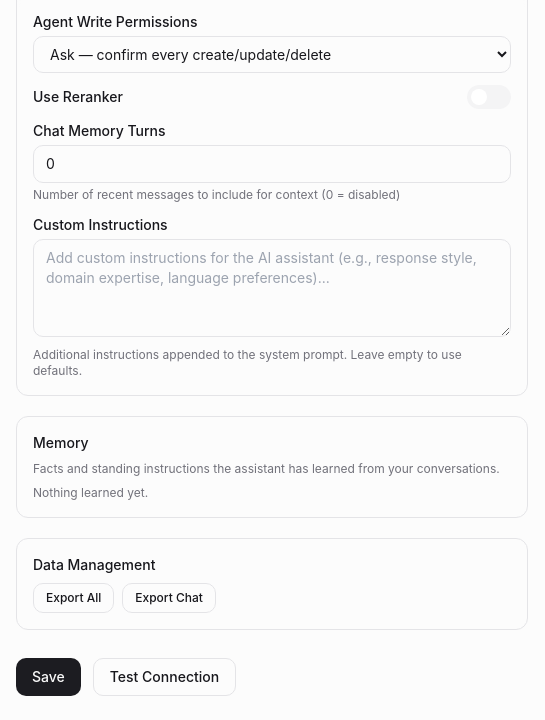
Test: SettingsPage — Export UI › shows export chat success message after Export Chat
(page scrolled)
Click the button with test id "export-chat-button": click(169, 598) left=122, top=583, right=216, bottom=613
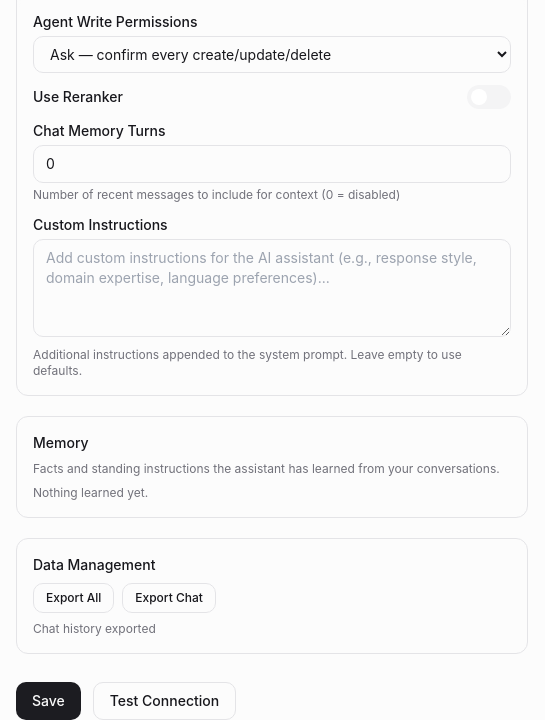
Now the text "Chat history exported" is shown, box left=33, top=621, right=156, bottom=636
